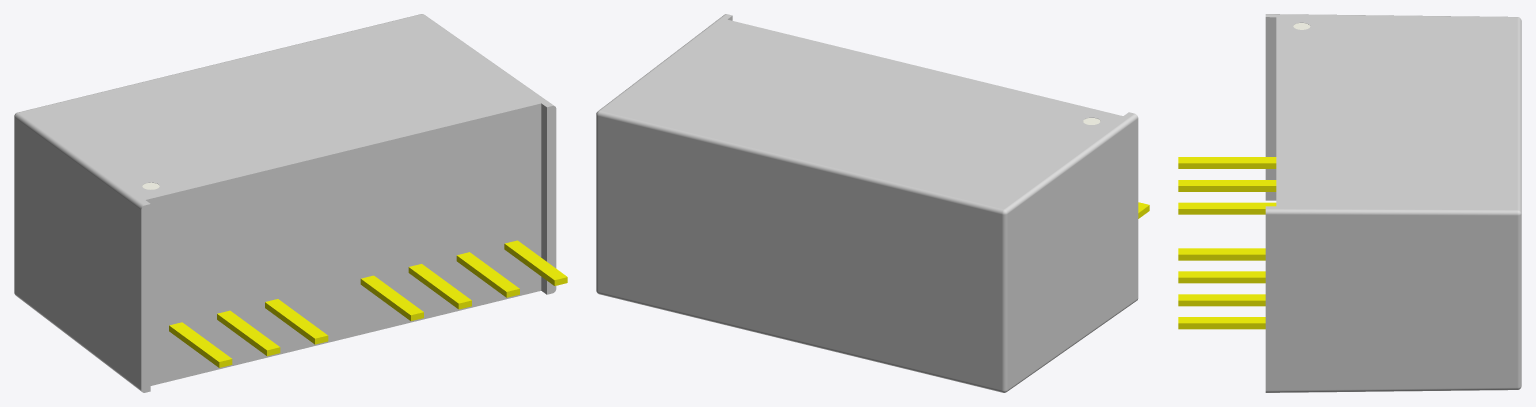
File: URB_S-6WR3.glb
The picture shows the model from 3 angles, left to right: view 1: azimuth 30°, elevation 25°; view 2: azimuth 150°, elevation 25°; view 3: azimuth 270°, elevation 25°; orthographic projection. The views are drawn at different scales.
Visible parts, largest first — view 1: 110000X3; view 2: 110000X3; view 3: 110000X3.
Part boxes in pixels (<box>): 110000X3: <box>14,14,567,392</box>; 110000X3: <box>596,14,1149,392</box>; 110000X3: <box>1178,14,1521,392</box>.
Bounding box in the file's own units: 0.022 × 0.0095 × 0.0161.
